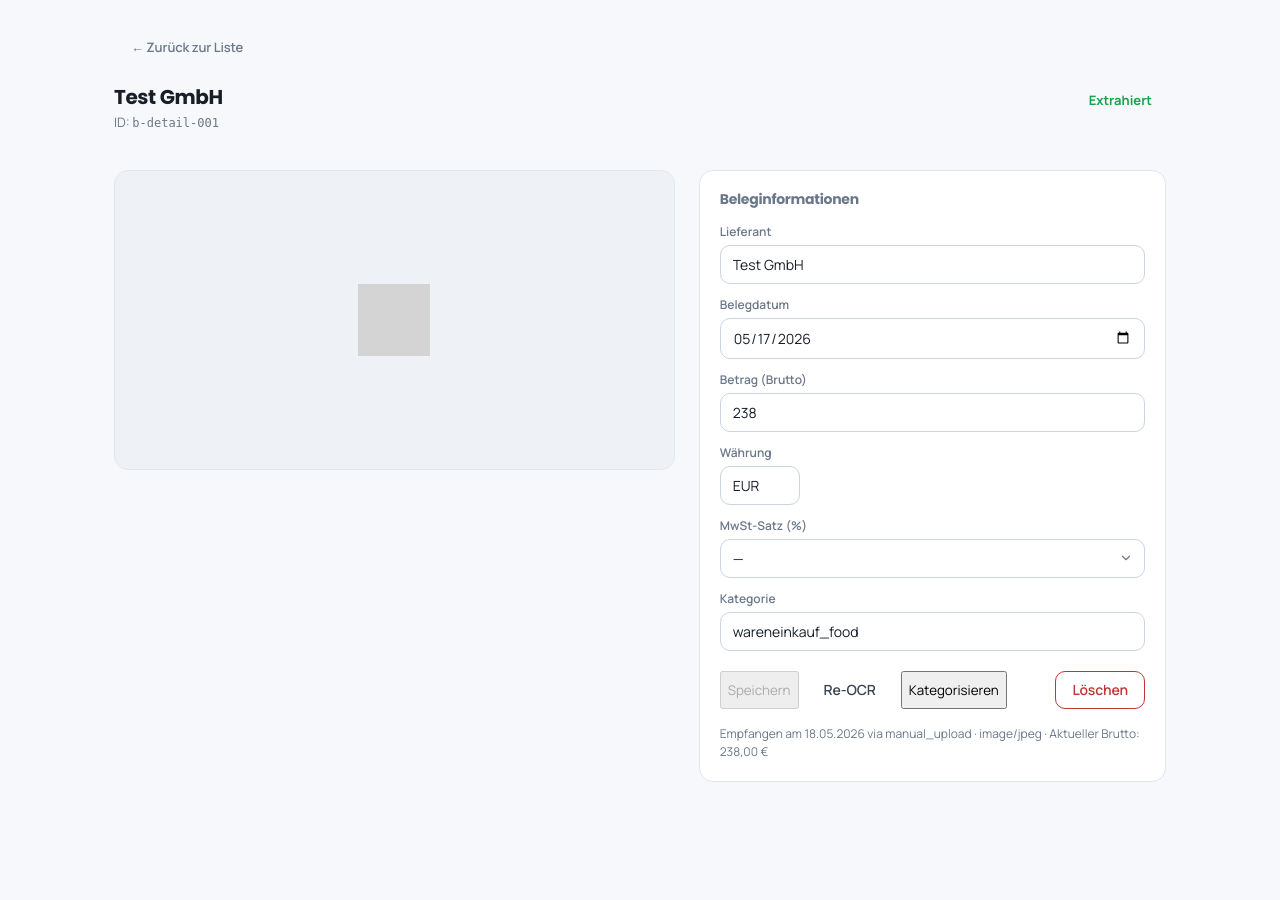
it: BelegeDetailPage › T076: Kategorisieren ruft POST /categorize + zeigt Toast
Click the button with test id "btn-categorize": (954, 690) [901,671,1007,709]
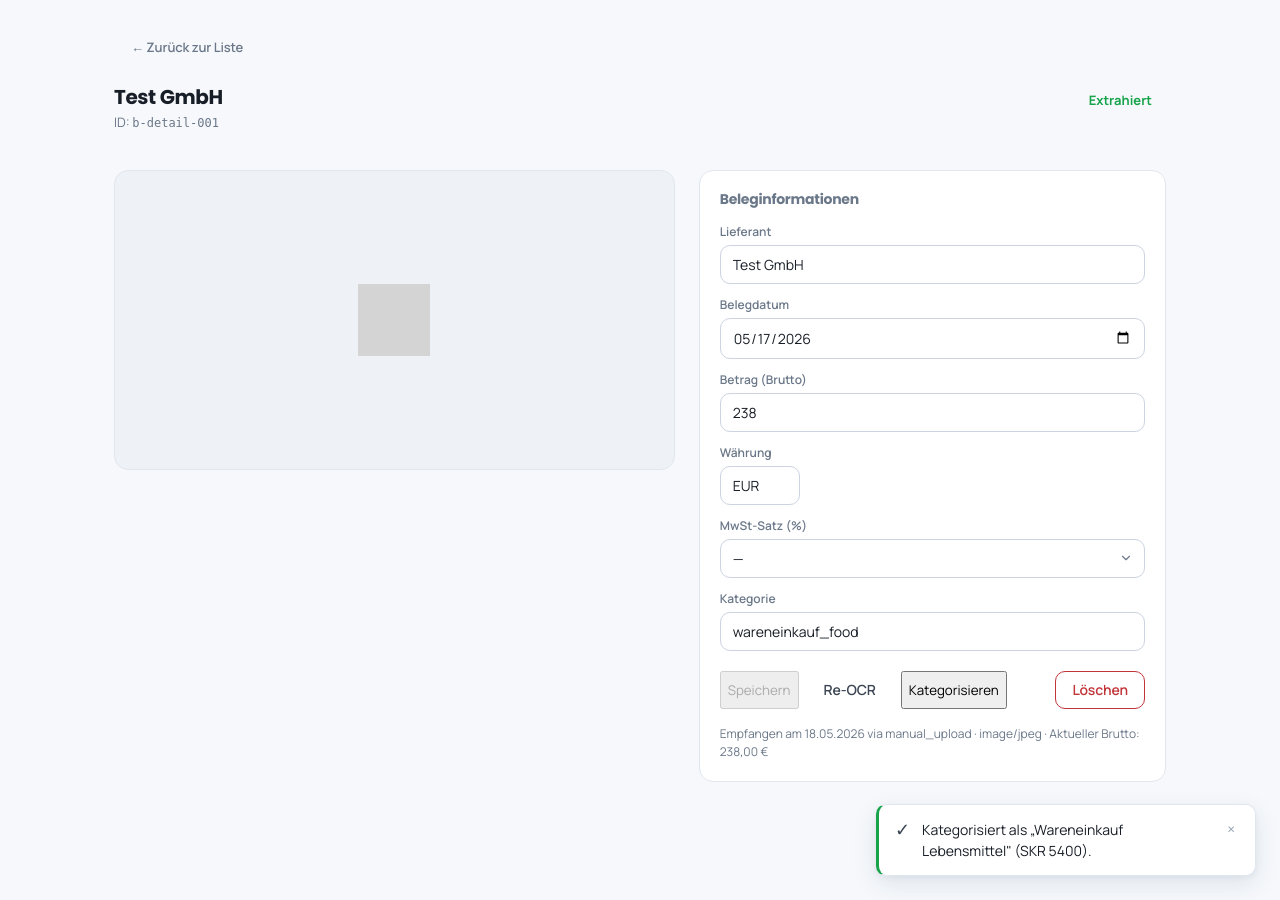
Now the text "Kategorisiert als „Wareneinkauf Lebensmittel\" (SKR 5400)." is shown, box [922,820,1123,860]
